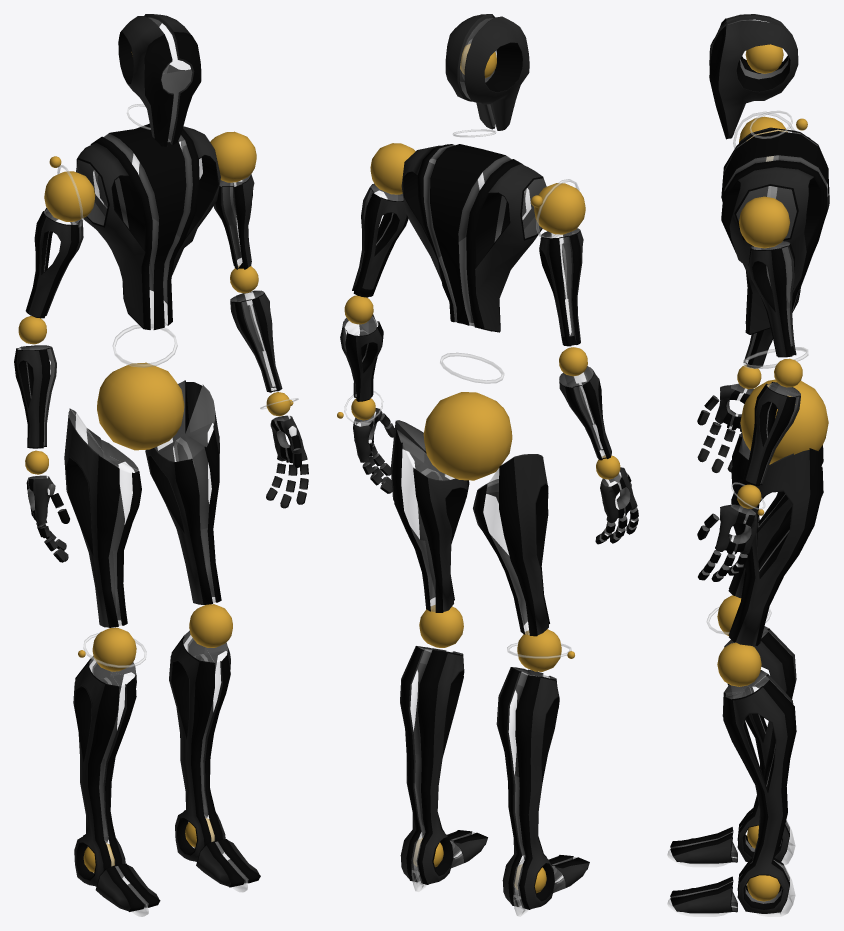
Rendered from Statue 2.fbx.
The picture shows the model from 3 angles, left to right: view 1: azimuth 30°, elevation 25°; view 2: azimuth 150°, elevation 25°; view 3: azimuth 270°, elevation 25°; orthographic projection.
Visible parts, largest first — view 1: Torso V2.002; view 2: Torso V2.002; view 3: Torso V2.002.
Boxes of the visible parts, left/top/right/bottom form: Torso V2.002: left=14, top=14, right=308, bottom=916; Torso V2.002: left=337, top=14, right=638, bottom=916; Torso V2.002: left=667, top=14, right=829, bottom=916.
Size of the model in its own units: 0.5962 by 1.79 by 0.3019.
